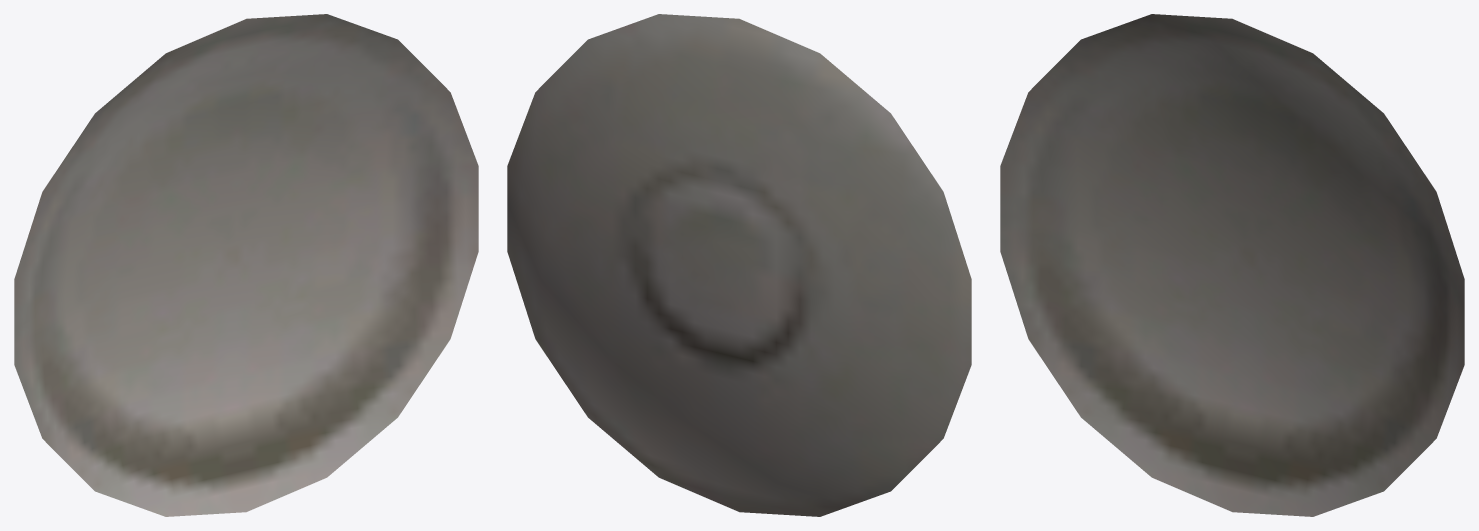
The model's file is p_jun_plate_dine_LOD0.obj.
The picture shows the model from 3 angles, left to right: view 1: azimuth 30°, elevation 25°; view 2: azimuth 150°, elevation 25°; view 3: azimuth 330°, elevation 25°; orthographic projection.
Parts seen in each view (by area): view 1: mtl_p_jun_dinnerware; view 2: mtl_p_jun_dinnerware; view 3: mtl_p_jun_dinnerware.
Boxes of the visible parts, left/top/right/bottom form: mtl_p_jun_dinnerware: left=14, top=14, right=478, bottom=516; mtl_p_jun_dinnerware: left=507, top=14, right=971, bottom=516; mtl_p_jun_dinnerware: left=1000, top=14, right=1464, bottom=516.
Bounding box in the file's own units: 34.59 × 35.12 × 2.22.
